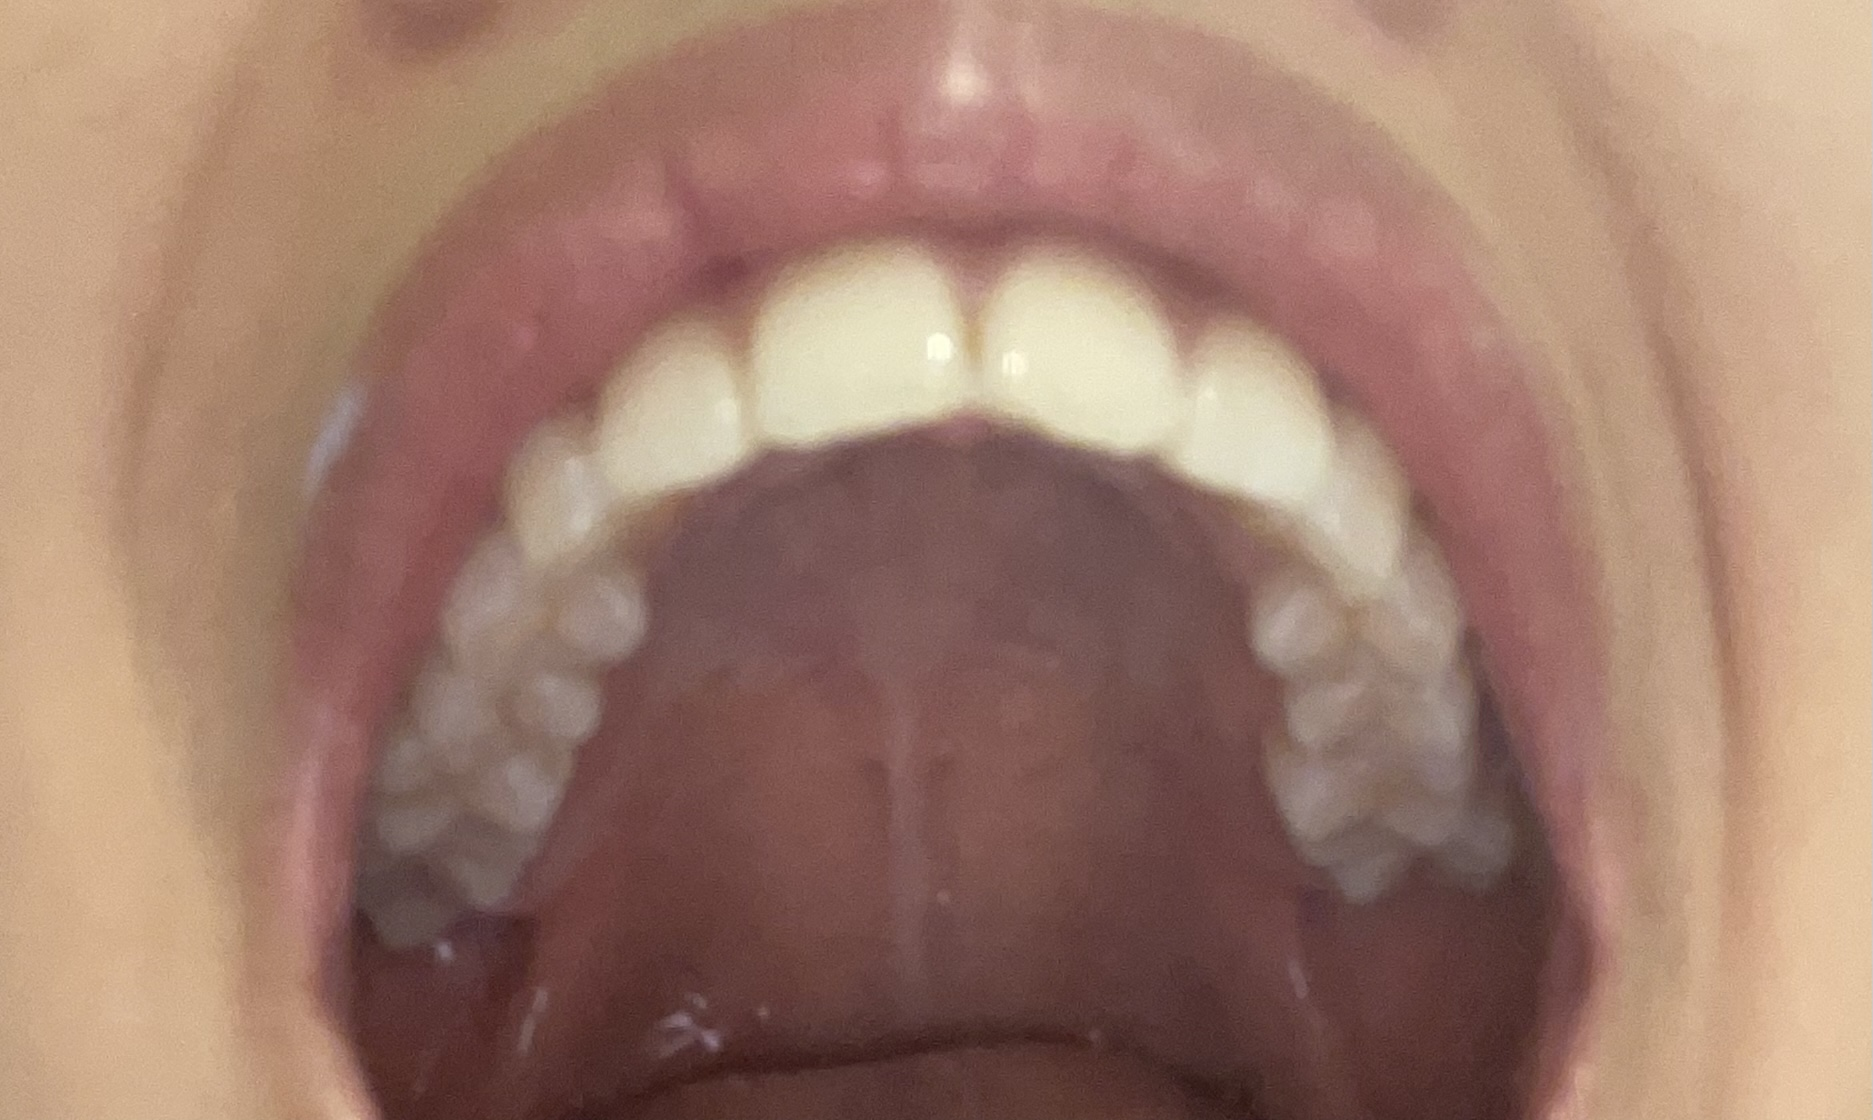teeth: (751, 245, 964, 449), (978, 256, 1188, 449), (1252, 511, 1464, 677), (1172, 311, 1336, 508), (601, 309, 759, 495), (441, 543, 647, 683), (495, 437, 679, 583), (1265, 409, 1405, 595), (1252, 740, 1482, 852), (379, 728, 568, 848), (359, 832, 544, 948), (421, 669, 600, 777), (1292, 657, 1474, 761), (1304, 813, 1516, 900)
